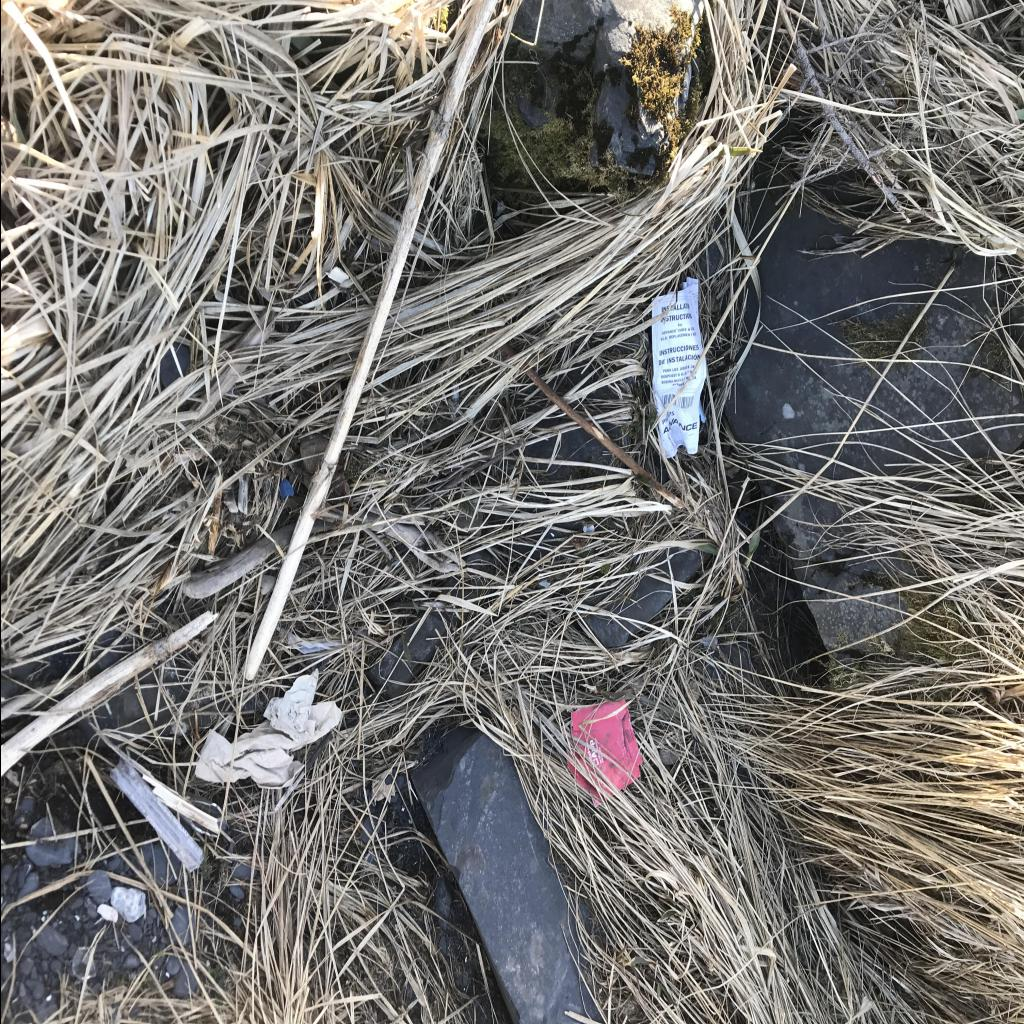Normal paper: (651, 277, 705, 459)
Other plastic wrapper: (278, 480, 292, 500)
Plastic film: (110, 756, 204, 872)
Unlabeled litter: (280, 631, 337, 653)
